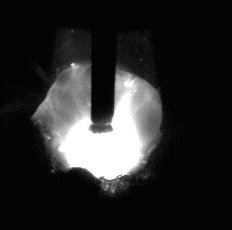arame: (91, 0, 116, 133)
poca: (32, 0, 163, 230)
